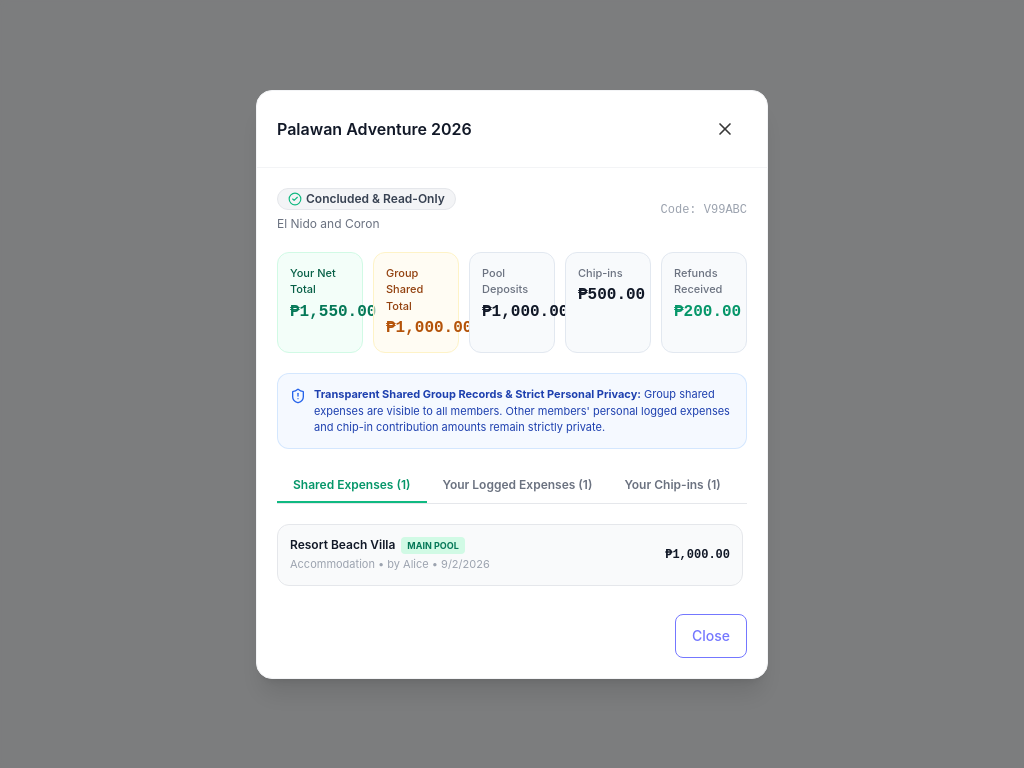
VacationModals › renders PastVacationSummaryModal showing everyone shared expenses and viewing member own records
This screenshot has width=1024, height=768.
Expected: the heading "Palawan Adventure 2026" is shown, [277, 116, 472, 140]
Expected: the text "Concluded & Read-Only" is shown, [306, 190, 445, 206]
Switch to personal expenses tab
Click the button "Your Logged Expenses (1)" at point(517, 486), box [426, 468, 608, 502]
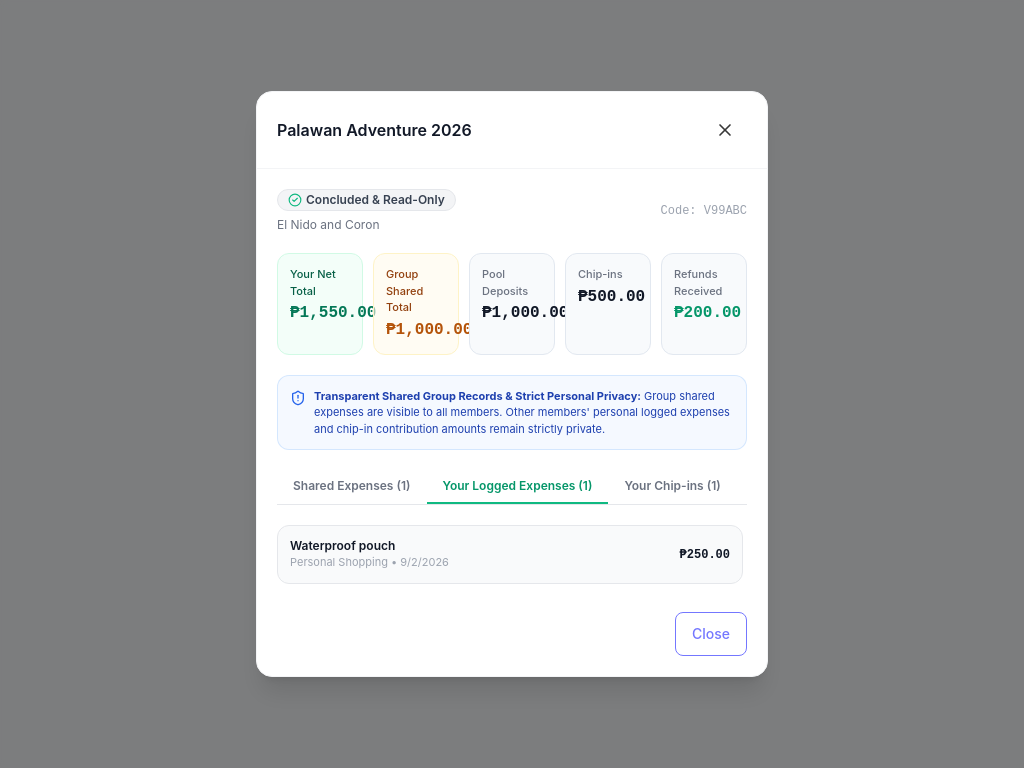
Expected: the text "Transparent Shared Group Records & Strict Personal Privacy:" is shown, [314, 389, 641, 403]
Expected: the text "Waterproof pouch" is shown, [290, 538, 395, 553]
